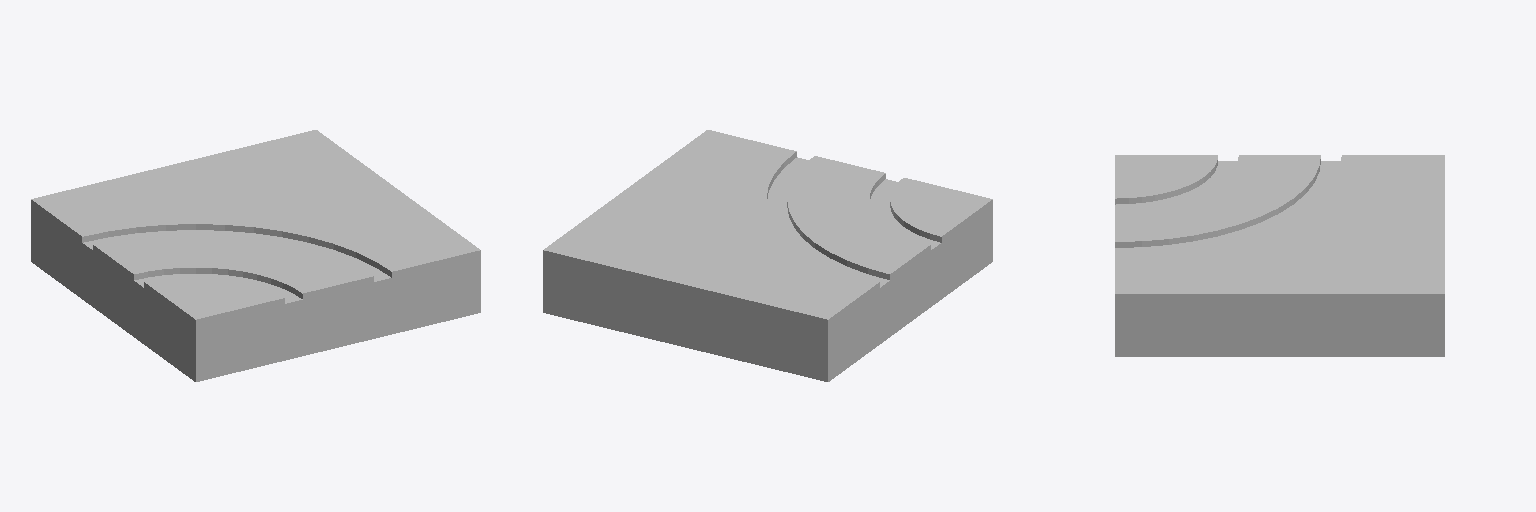
Rendered from tile281.obj.
The picture shows the model from 3 angles: view 1: azimuth 30°, elevation 25°; view 2: azimuth 150°, elevation 25°; view 3: azimuth 270°, elevation 25°; orthographic projection.
Parts seen in each view (by area): view 1: tile281; view 2: tile281; view 3: tile281.
Part boxes in pixels (x1,y1,x2,y2): tile281: (31, 130, 480, 381); tile281: (543, 130, 992, 381); tile281: (1115, 155, 1444, 356).
Bounding box in the file's own units: 1 × 0.21 × 1.